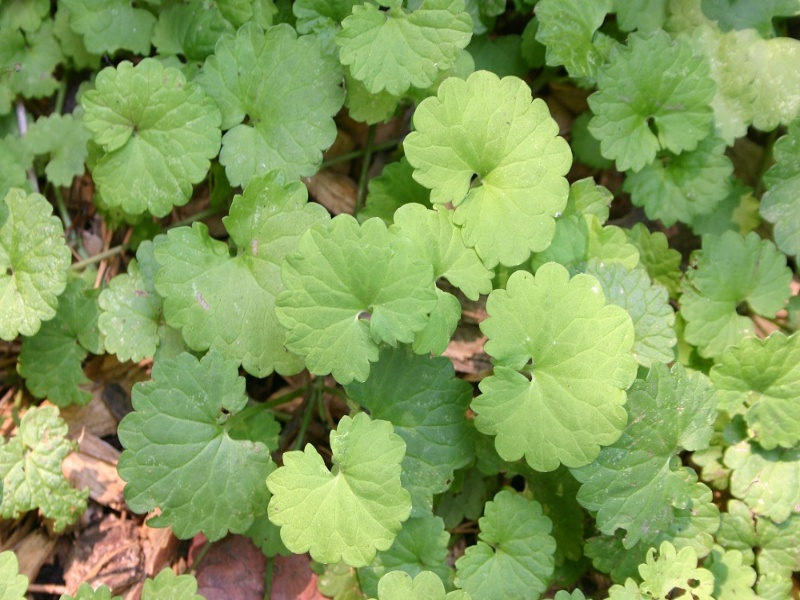weed: (105, 343, 296, 546), (469, 272, 645, 473), (387, 87, 569, 262), (286, 202, 448, 368), (261, 414, 426, 569), (163, 202, 320, 349), (75, 54, 220, 201), (205, 30, 338, 181), (583, 33, 713, 171), (323, 3, 490, 108), (670, 233, 795, 351), (1, 391, 93, 522), (1, 200, 60, 341)
